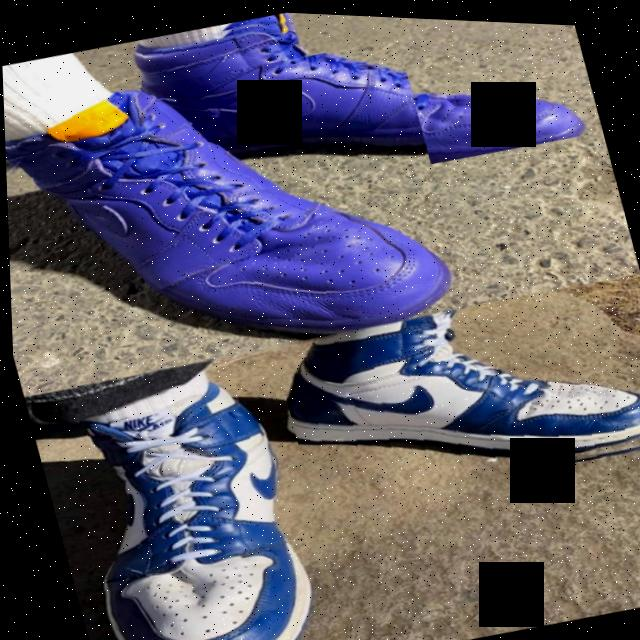shoe: (1, 21, 471, 411), (245, 253, 640, 531), (109, 4, 595, 229), (27, 338, 350, 640)
